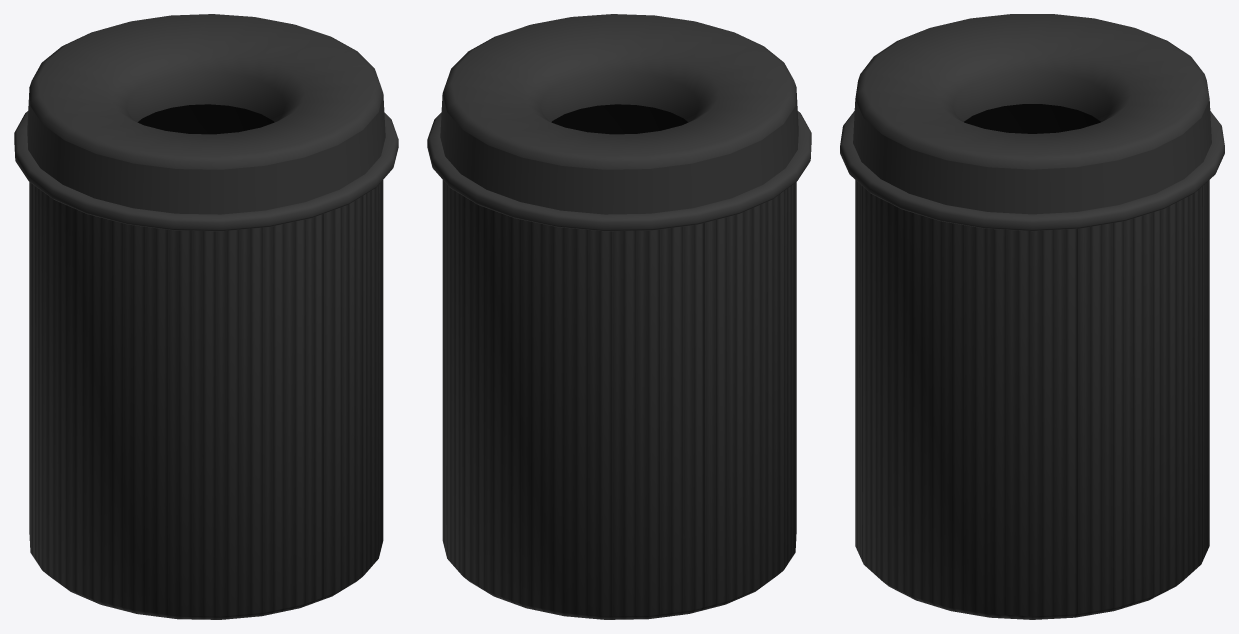
File: waste bin_004.FBX
3 renders of one model, left to right at view 1: azimuth 30°, elevation 25°; view 2: azimuth 150°, elevation 25°; view 3: azimuth 270°, elevation 25°, orthographic.
Parts seen in each view (by area): view 1: waste bin_004; view 2: waste bin_004; view 3: waste bin_004.
Boxes of the visible parts, x1=… form: waste bin_004: x1=14, y1=14, x2=398, y2=619; waste bin_004: x1=427, y1=14, x2=811, y2=619; waste bin_004: x1=840, y1=14, x2=1224, y2=619.
Bounding box in the file's own units: 0.3647 × 0.4854 × 0.3654.
